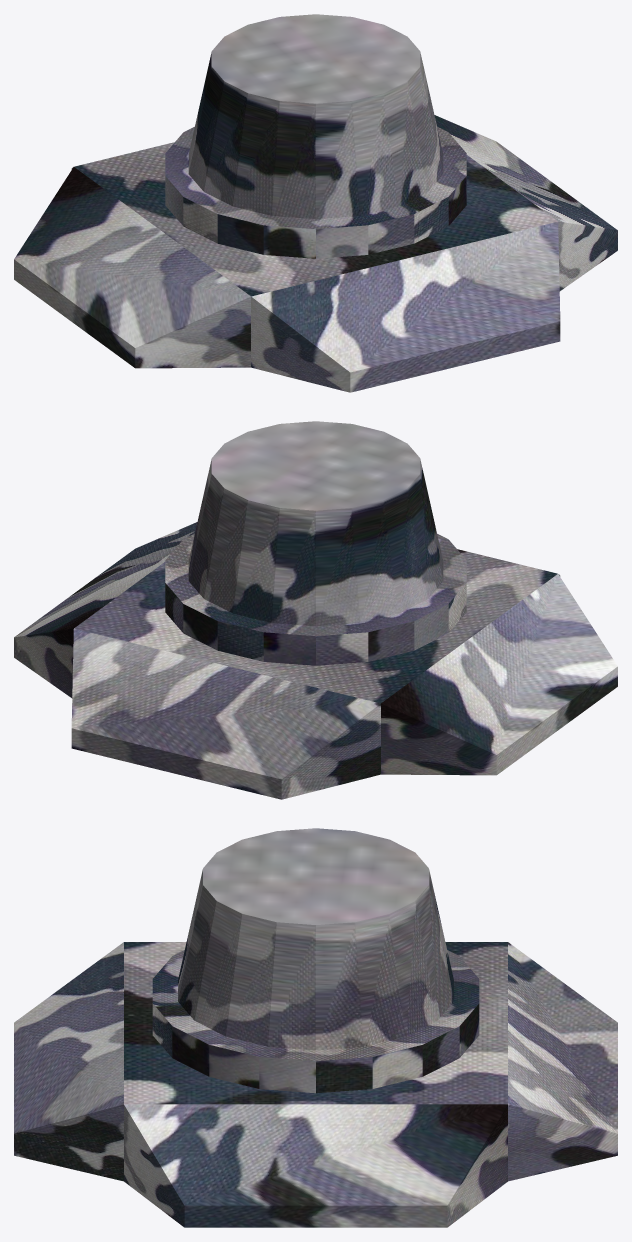
The model's file is base-turret.FBX.
3 renders of one model, top to bottom at view 1: azimuth 30°, elevation 25°; view 2: azimuth 150°, elevation 25°; view 3: azimuth 270°, elevation 25°, orthographic. The views are drawn at different scales.
Parts seen in each view (by area): view 1: Cylinder002; view 2: Cylinder002; view 3: Cylinder002.
Boxes of the visible parts, bbox=[...] form: Cylinder002: bbox=[14, 14, 617, 392]; Cylinder002: bbox=[14, 421, 617, 799]; Cylinder002: bbox=[14, 828, 617, 1227].
Bounding box in the file's own units: 23.99 × 9.8 × 23.99.
Materials: 1 (1 with a texture image).
